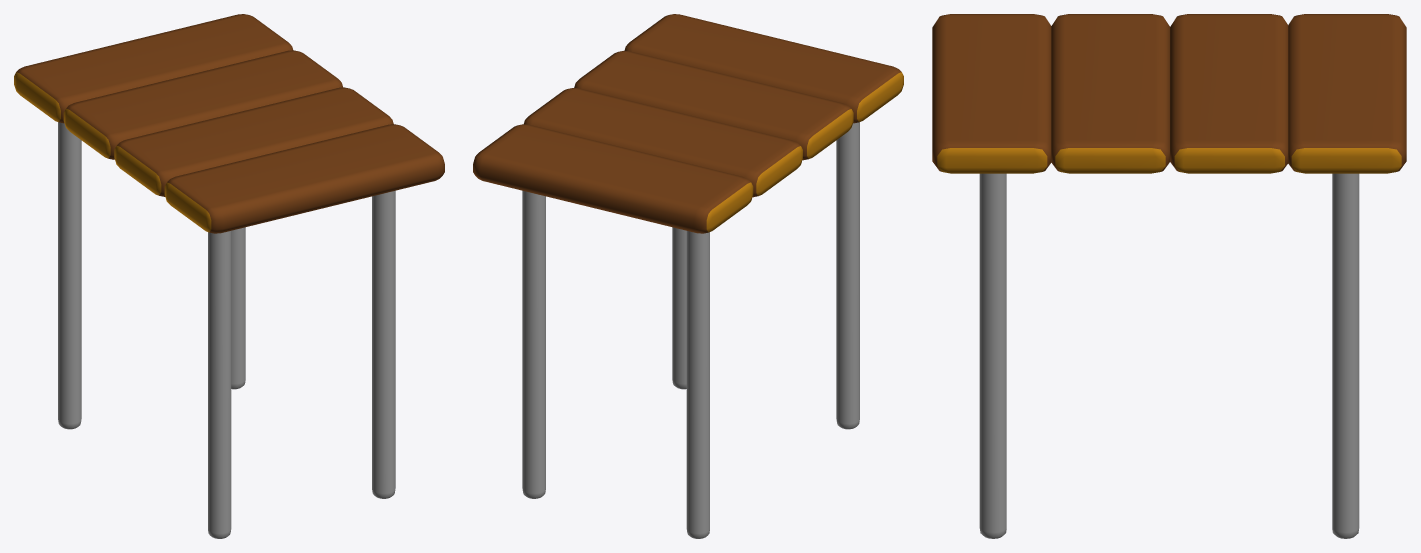
Rendered from AxisWoodTall.fbx.
3 views of the same model, side by side, from view 1: azimuth 30°, elevation 25°; view 2: azimuth 150°, elevation 25°; view 3: azimuth 270°, elevation 25° (orthographic). The views are drawn at different scales.
Visible parts, largest first — view 1: AxisWood3, AxisWood5, AxisWood2, AxisWood6, pCylinder4, pCylinder1, pCylinder3, pCylinder2; view 2: AxisWood6, AxisWood2, AxisWood3, AxisWood5, pCylinder3, pCylinder2, pCylinder4, pCylinder1; view 3: AxisWood3, AxisWood2, AxisWood5, AxisWood6, pCylinder2, pCylinder1.
Part boxes in pixels (x1=…): AxisWood3: x1=164, y1=124, x2=444, y2=233; AxisWood5: x1=63, y1=50, x2=343, y2=159; AxisWood2: x1=114, y1=87, x2=393, y2=196; AxisWood6: x1=14, y1=14, x2=292, y2=123; pCylinder4: x1=208, y1=231, x2=231, y2=538; pCylinder1: x1=372, y1=190, x2=395, y2=498; pCylinder3: x1=58, y1=122, x2=81, y2=429; pCylinder2: x1=231, y1=227, x2=245, y2=389; AxisWood6: x1=473, y1=124, x2=753, y2=233; AxisWood2: x1=574, y1=50, x2=853, y2=160; AxisWood3: x1=624, y1=14, x2=903, y2=123; AxisWood5: x1=524, y1=88, x2=802, y2=197; pCylinder3: x1=686, y1=231, x2=709, y2=538; pCylinder2: x1=522, y1=190, x2=545, y2=498; pCylinder4: x1=836, y1=122, x2=859, y2=429; pCylinder1: x1=672, y1=227, x2=686, y2=389; AxisWood3: x1=932, y1=14, x2=1051, y2=173; AxisWood2: x1=1051, y1=14, x2=1169, y2=173; AxisWood5: x1=1170, y1=14, x2=1288, y2=173; AxisWood6: x1=1288, y1=14, x2=1406, y2=173; pCylinder2: x1=1332, y1=173, x2=1359, y2=538; pCylinder1: x1=979, y1=173, x2=1006, y2=538.
Bounding box in the file's own units: 4.38 × 6.18 × 6.47.
Materials: 2 (1 with a texture image).
